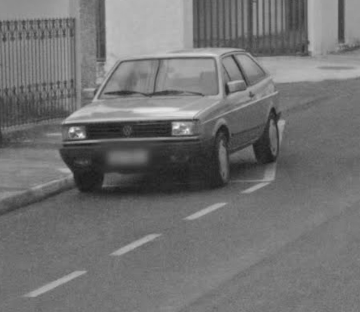car: (56, 47, 283, 194)
